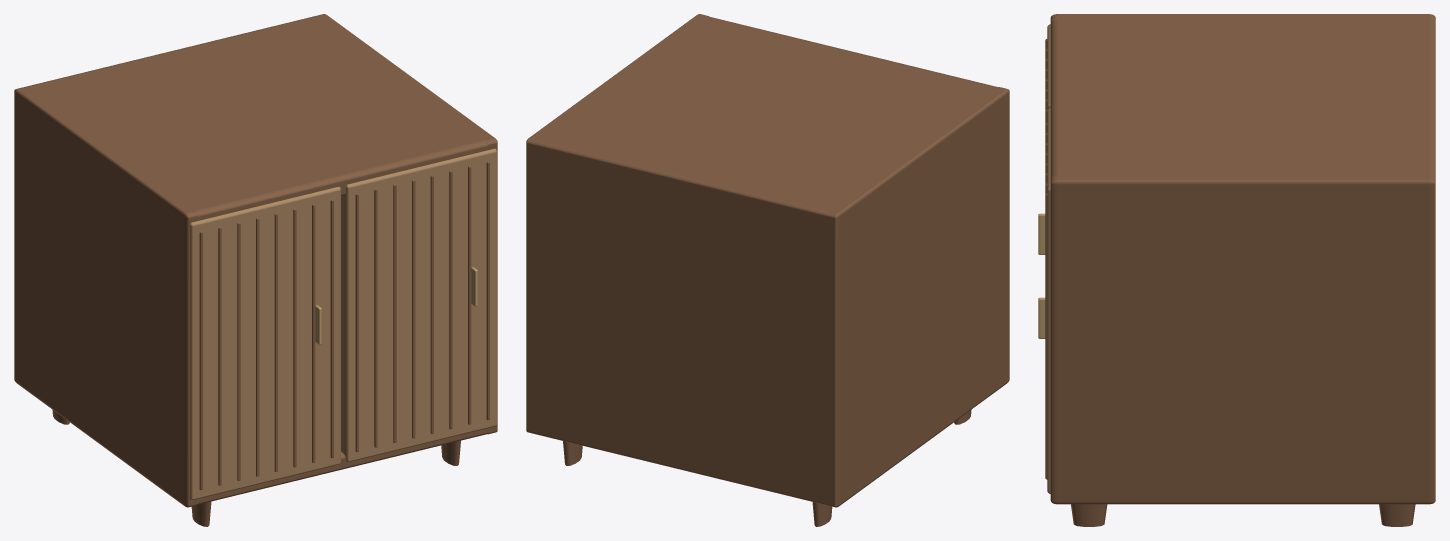
Rendered from cabinet-3-0.glb.
The picture shows the model from 3 angles, left to right: view 1: azimuth 30°, elevation 25°; view 2: azimuth 150°, elevation 25°; view 3: azimuth 270°, elevation 25°; orthographic projection. The views are drawn at different scales.
Parts seen in each view (by area): view 1: part, upholstery; view 2: part; view 3: part, upholstery (×2).
Boxes of the visible parts, <box> form: part: <box>14,14,497,526</box>; upholstery: <box>190,148,496,500</box>; part: <box>526,14,1009,526</box>; part: <box>1045,14,1435,526</box>; upholstery (×2): <box>1038,24,1050,493</box>.
Bounding box in the file's own units: 1 × 1 × 1.
